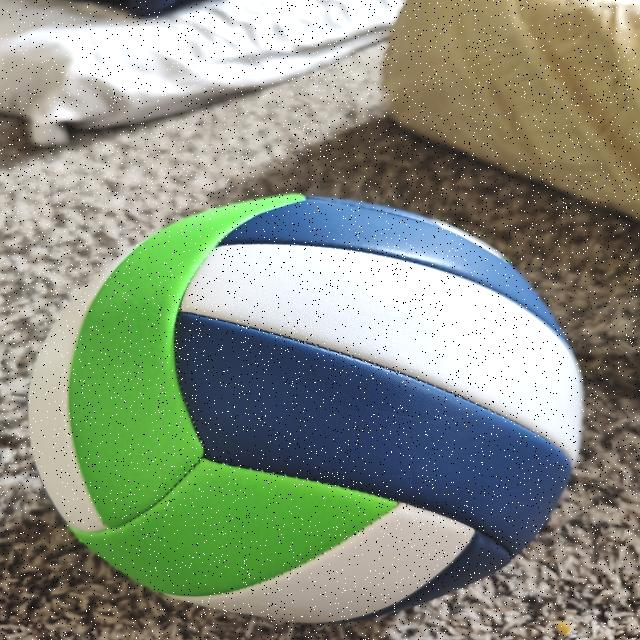ball: (27, 190, 589, 620)
